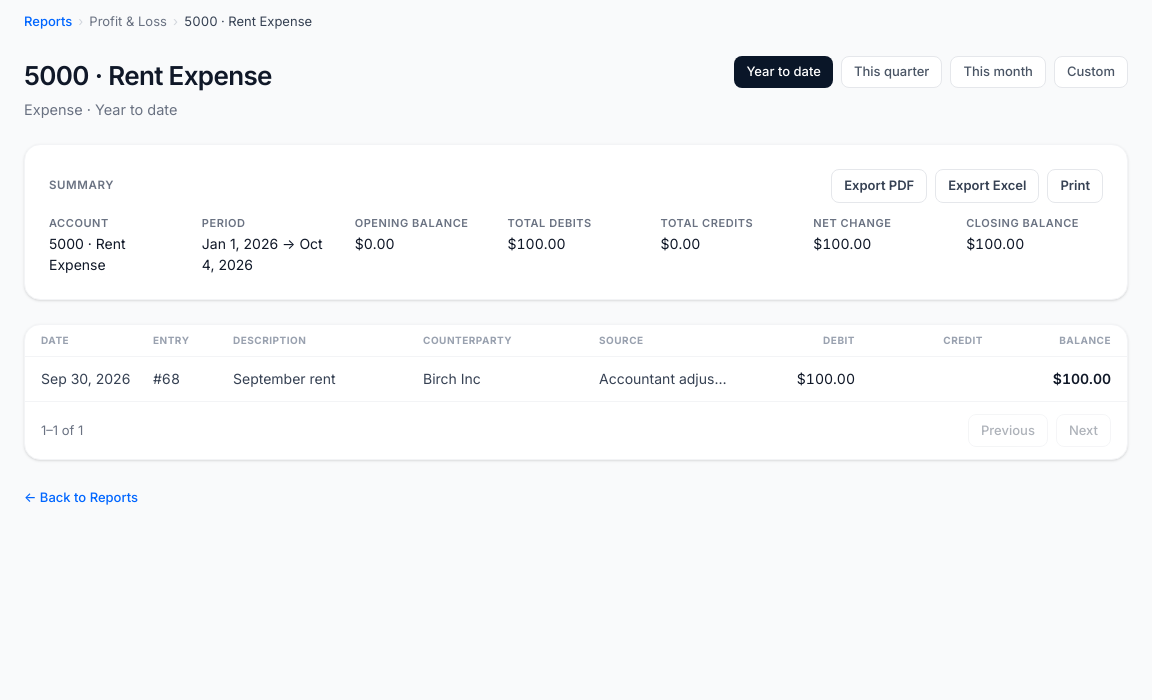
Test: owner account ledger — the drawer › opens the live entry, read by id from the owner detail endpoint
The width and height of the screenshot is (1152, 700).
Click the text "September rent".
click(312, 378)  # box 217,356 -> 407,400
(page scrolled)
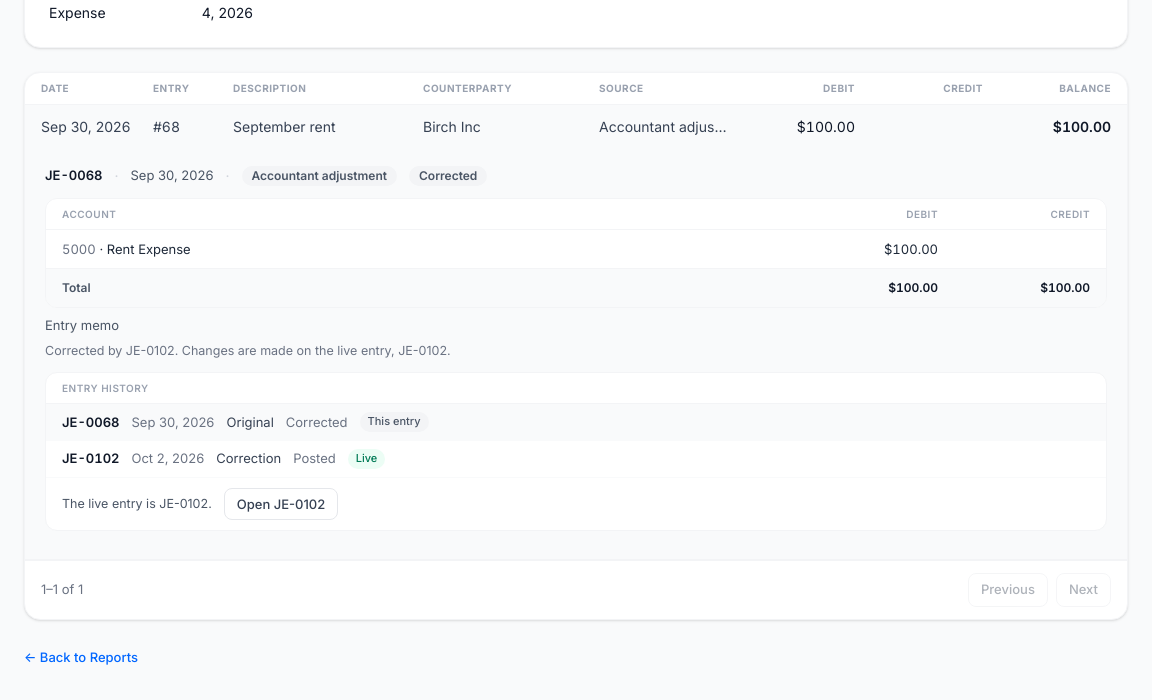
Click the button "Open JE-0102".
click(281, 504)  # box 224,488 -> 338,520
(page scrolled)
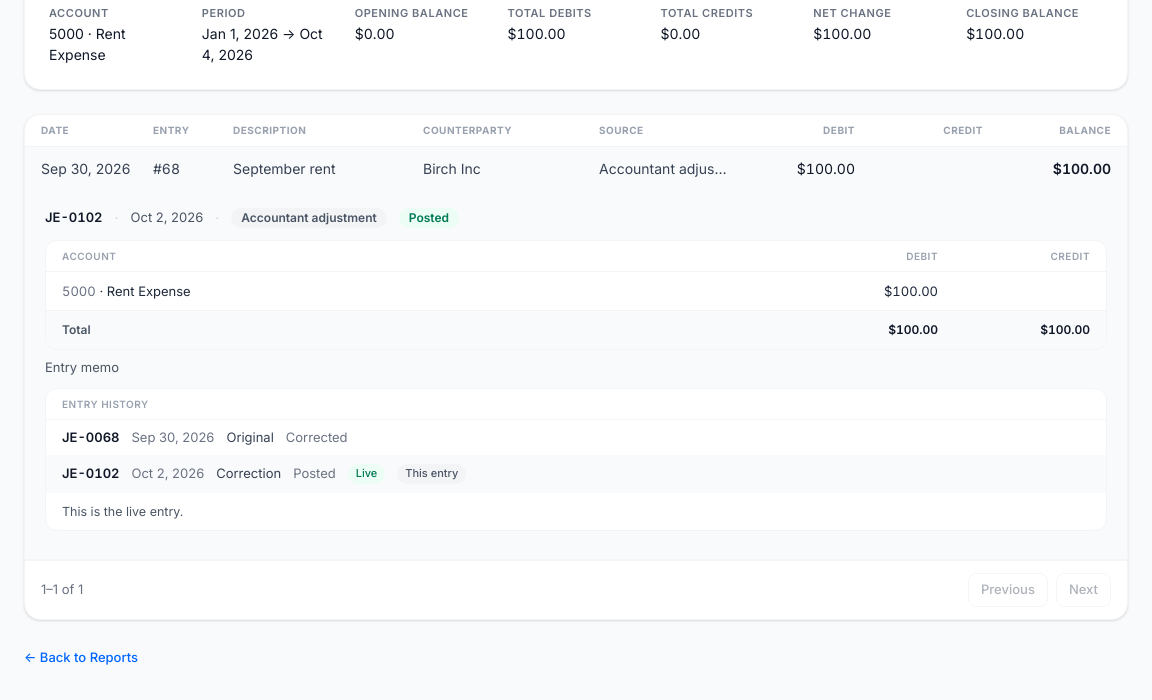
expect the text "This is the live entry." is shown: met, box 62,503 -> 183,520
